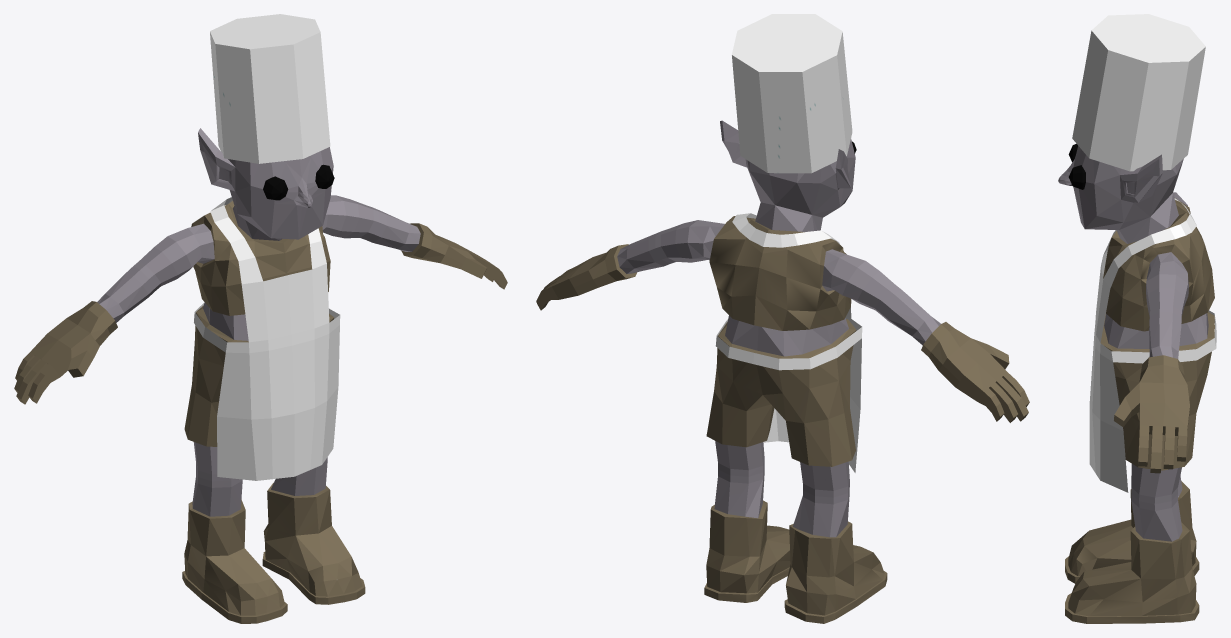
The model's file is gnome_cook.glb.
3 views of the same model, side by side, from view 1: azimuth 30°, elevation 25°; view 2: azimuth 150°, elevation 25°; view 3: azimuth 270°, elevation 25° (orthographic).
Parts seen in each view (by area): view 1: Gnome Marina_2, Apron_0, Cook's Hat_1; view 2: Gnome Marina_2, Cook's Hat_1, Apron_0; view 3: Gnome Marina_2, Cook's Hat_1, Apron_0.
Boxes of the visible parts, <box> form: Gnome Marina_2: <box>14,128,507,623</box>; Apron_0: <box>194,197,340,480</box>; Cook's Hat_1: <box>210,14,330,163</box>; Gnome Marina_2: <box>536,120,1029,623</box>; Cook's Hat_1: <box>732,14,852,173</box>; Apron_0: <box>715,213,862,472</box>; Gnome Marina_2: <box>1058,144,1214,623</box>; Cook's Hat_1: <box>1072,14,1205,171</box>; Apron_0: <box>1089,198,1216,492</box>.
Bounding box in the file's own units: 3.08 × 3.38 × 0.8662.
Materials: 1 (1 with a texture image).
